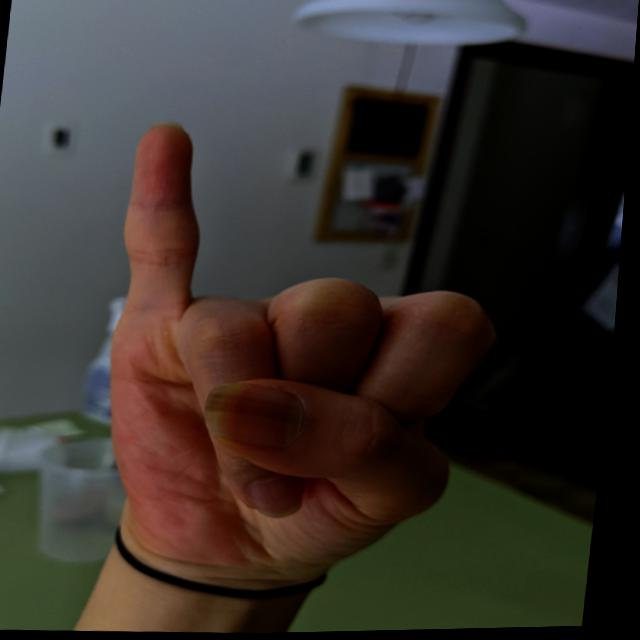I: (73, 107, 537, 612)
